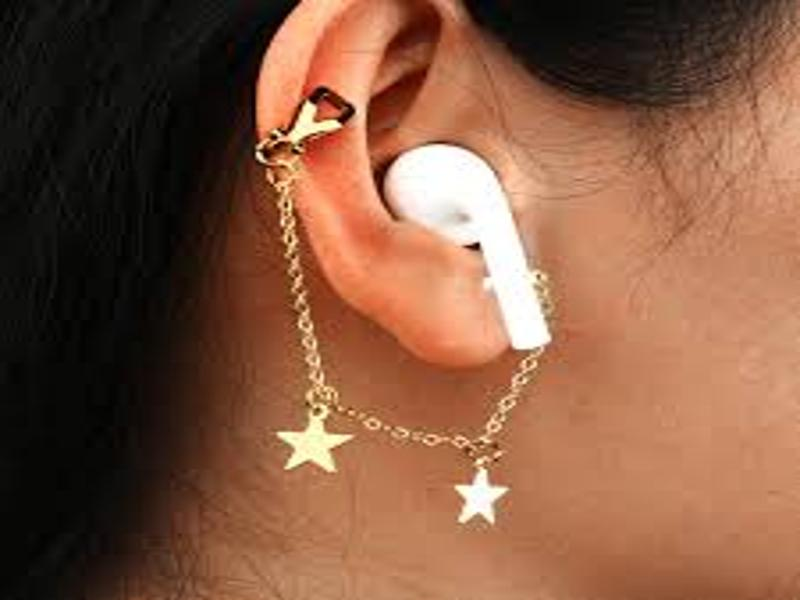headphone: (382, 137, 558, 351)
